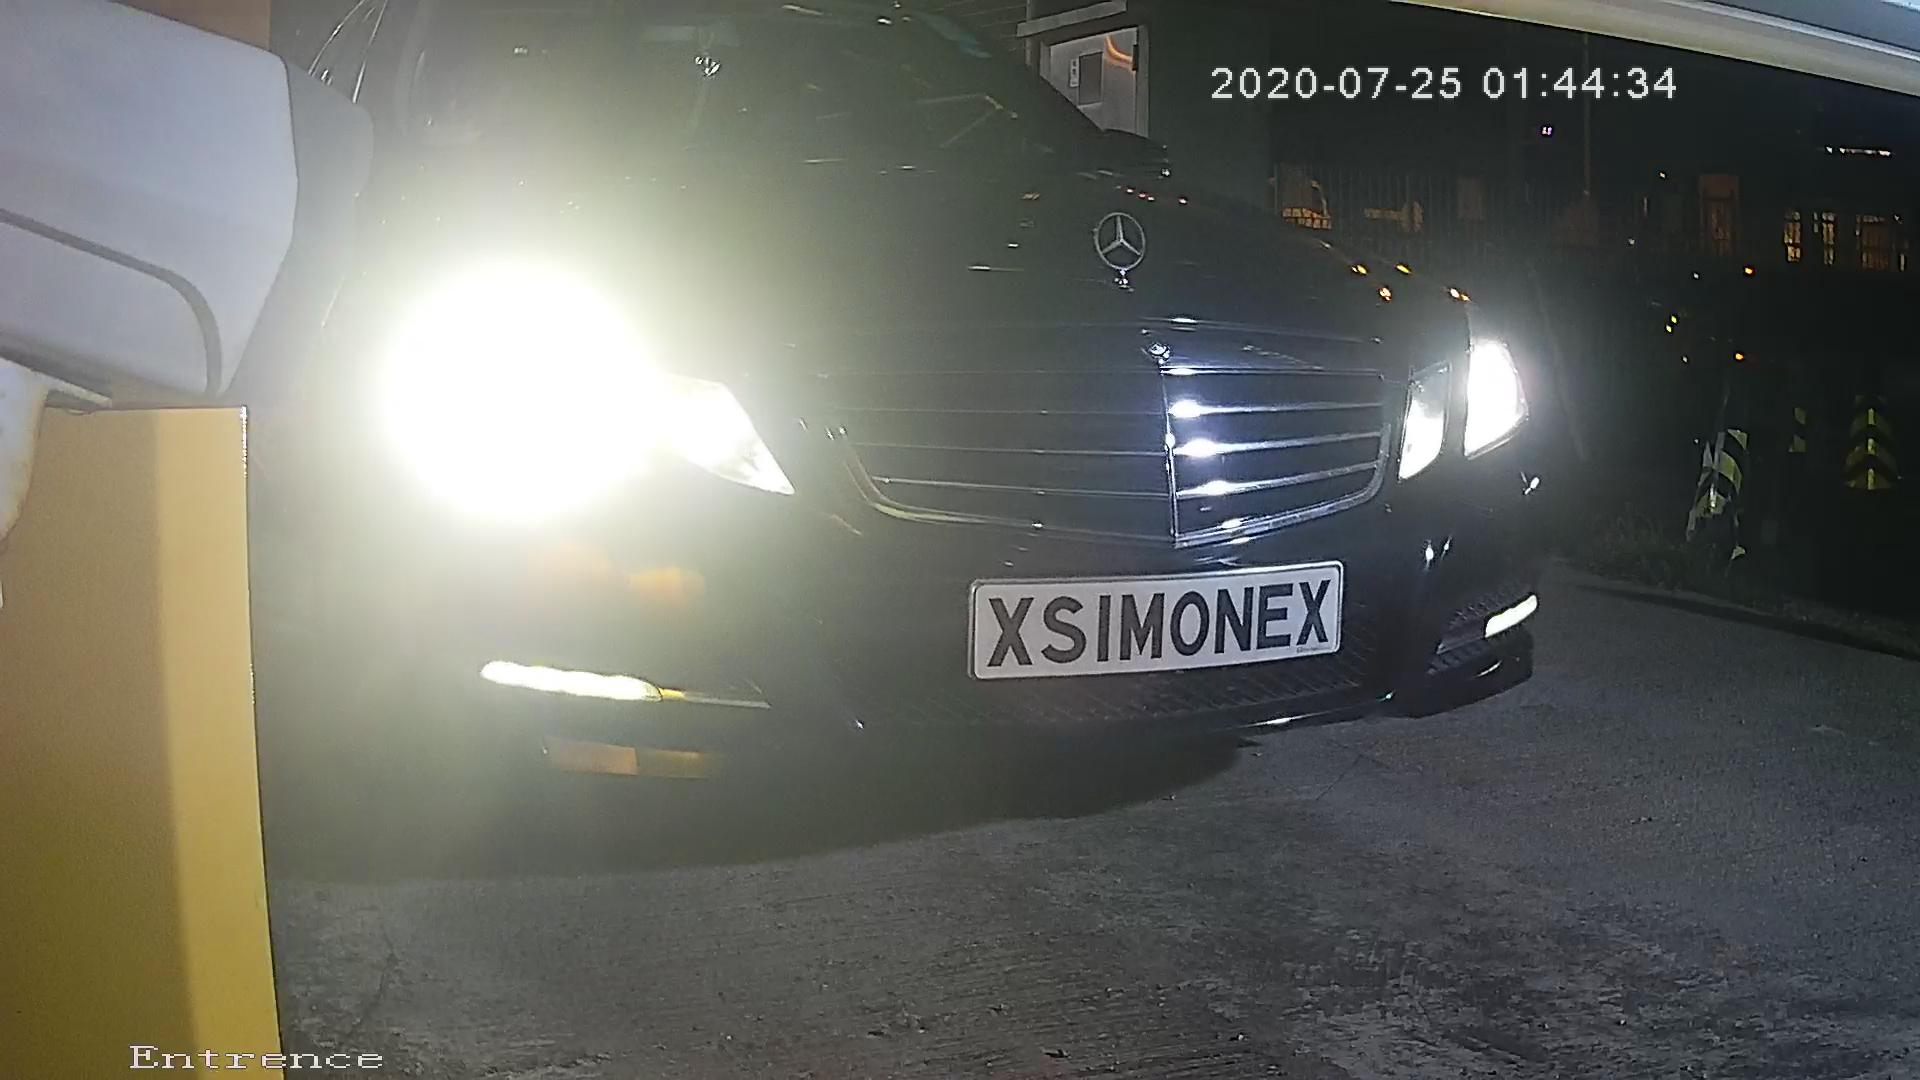Car: (1, 1, 1715, 873)
License Plate: (943, 560, 1355, 685)
